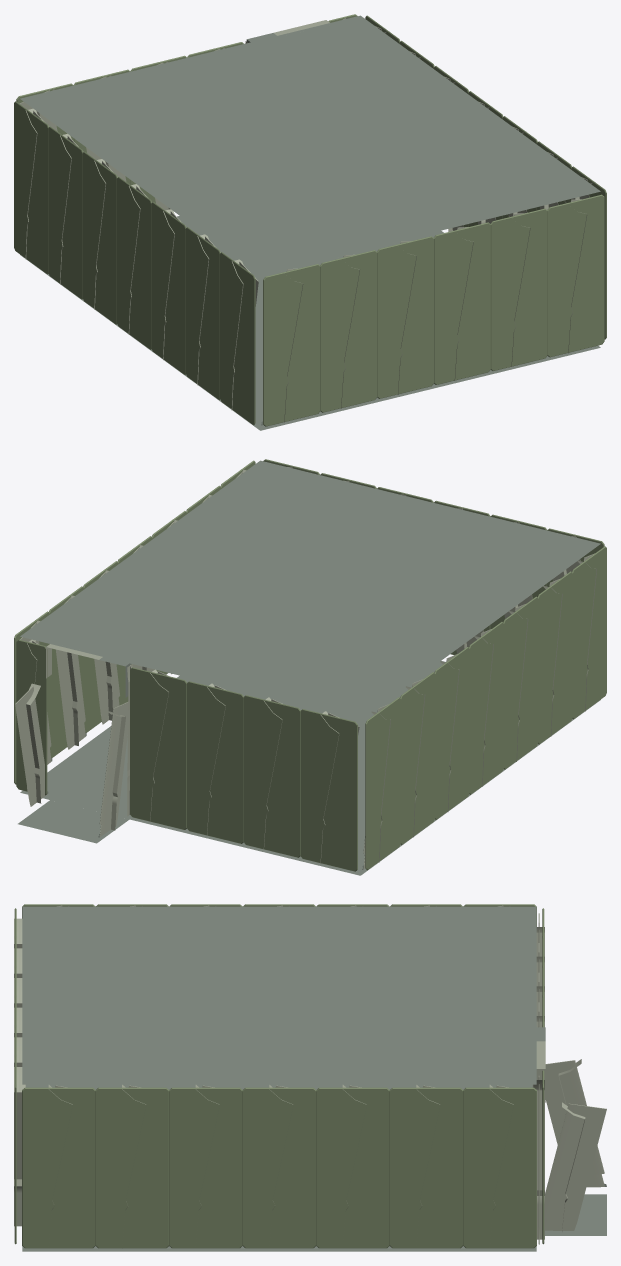
The model's file is bunker-shell.glb.
3 views of the same model, one above another, from view 1: azimuth 30°, elevation 25°; view 2: azimuth 150°, elevation 25°; view 3: azimuth 270°, elevation 25° (orthographic). The views are drawn at different scales.
Parts seen in each view (by area): view 1: Platform_DarkPlates, Backing_Front_1, Backing_Front_5, Backing_Front_0, Backing_Front_2, Backing_Front_4, Backing_Front_3, Backing_Side_-1_6, Backing_Side_-1_2, Backing_Side_-1_3, Backing_Side_-1_0, Backing_Side_-1_4 (+3 smaller); view 2: Platform_DarkPlates (×5), Backing_Back_1, Backing_Back_0, Backing_Back_2, Backing_Back_3, WallAstra_Straight (×4), Backing_Side_-1_0, Backing_Side_-1_4, Backing_Side_-1_3, Backing_Side_-1_6, Backing_Side_-1_1, Backing_Side_-1_5 (+6 smaller); view 3: Platform_DarkPlates (×2), Backing_Side_1_1, Backing_Side_1_3, Backing_Side_1_5, Backing_Side_1_2, Backing_Side_1_0, Backing_Side_1_4, Backing_Side_1_6, WallAstra_Straight (×4), Backing_Front_5, BottomMetal_Straight, Backing_ExitRight.
Part boxes in pixels (<box>): Platform_DarkPlates: <box>20,15,600,274</box>; Backing_Front_1: <box>320,250,377,412</box>; Backing_Front_5: <box>547,194,604,357</box>; Backing_Front_0: <box>263,264,320,426</box>; Backing_Front_2: <box>377,236,433,398</box>; Backing_Front_4: <box>490,208,547,370</box>; Backing_Front_3: <box>434,222,490,384</box>; Backing_Side_-1_6: <box>220,252,255,425</box>; Backing_Side_-1_2: <box>82,151,117,324</box>; Backing_Side_-1_3: <box>117,177,151,349</box>; Backing_Side_-1_0: <box>14,101,48,274</box>; Backing_Side_-1_4: <box>151,202,186,374</box>; Platform_DarkPlates (×5): <box>18,460,600,843</box>; Backing_Back_1: <box>243,695,300,857</box>; Backing_Back_0: <box>300,709,357,871</box>; Backing_Back_2: <box>187,681,243,843</box>; Backing_Back_3: <box>130,667,186,829</box>; WallAstra_Straight (×4): <box>15,570,129,837</box>; Backing_Side_-1_0: <box>365,697,400,870</box>; Backing_Side_-1_4: <box>503,596,538,769</box>; Backing_Side_-1_3: <box>469,622,503,794</box>; Backing_Side_-1_6: <box>572,546,606,719</box>; Backing_Side_-1_1: <box>400,672,435,845</box>; Backing_Side_-1_5: <box>537,571,572,744</box>; Platform_DarkPlates (×2): <box>22,906,606,1235</box>; Backing_Side_1_1: <box>389,1087,463,1248</box>; Backing_Side_1_3: <box>242,1087,316,1248</box>; Backing_Side_1_5: <box>95,1087,169,1248</box>; Backing_Side_1_2: <box>316,1087,389,1248</box>; Backing_Side_1_0: <box>463,1087,536,1248</box>; Backing_Side_1_4: <box>169,1087,242,1248</box>; Backing_Side_1_6: <box>22,1087,95,1248</box>; WallAstra_Straight (×4): <box>14,1059,606,1244</box>; Backing_Front_5: <box>14,1056,16,1244</box>; BottomMetal_Straight: <box>532,1027,545,1102</box>; Backing_ExitRight: <box>542,1070,544,1244</box>.
Size of the model in its own units: 9.35 by 3.94 by 12.68.
